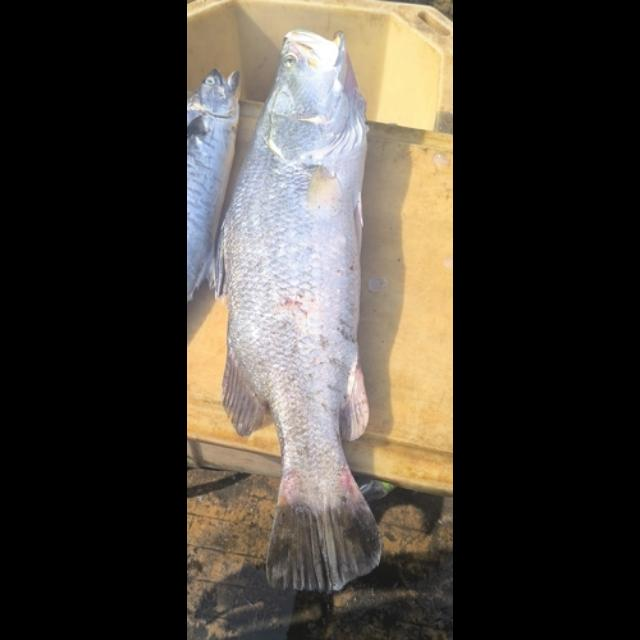Seabass: (214, 30, 386, 592)
